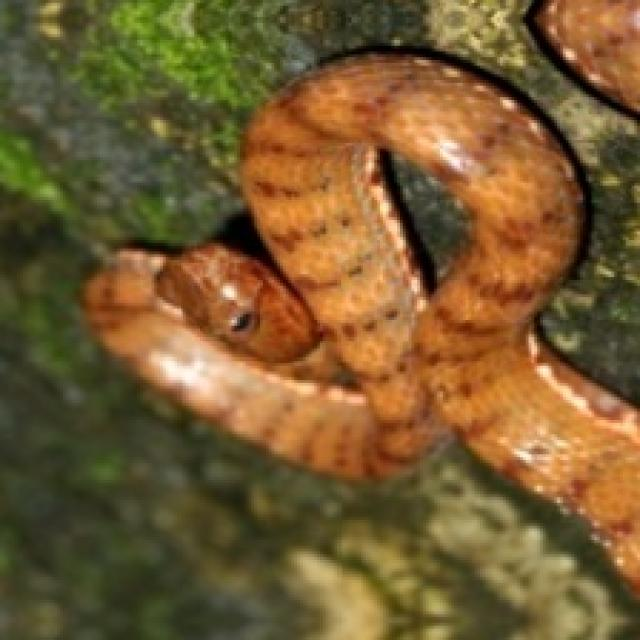philippine pitviper: (83, 46, 637, 591)
